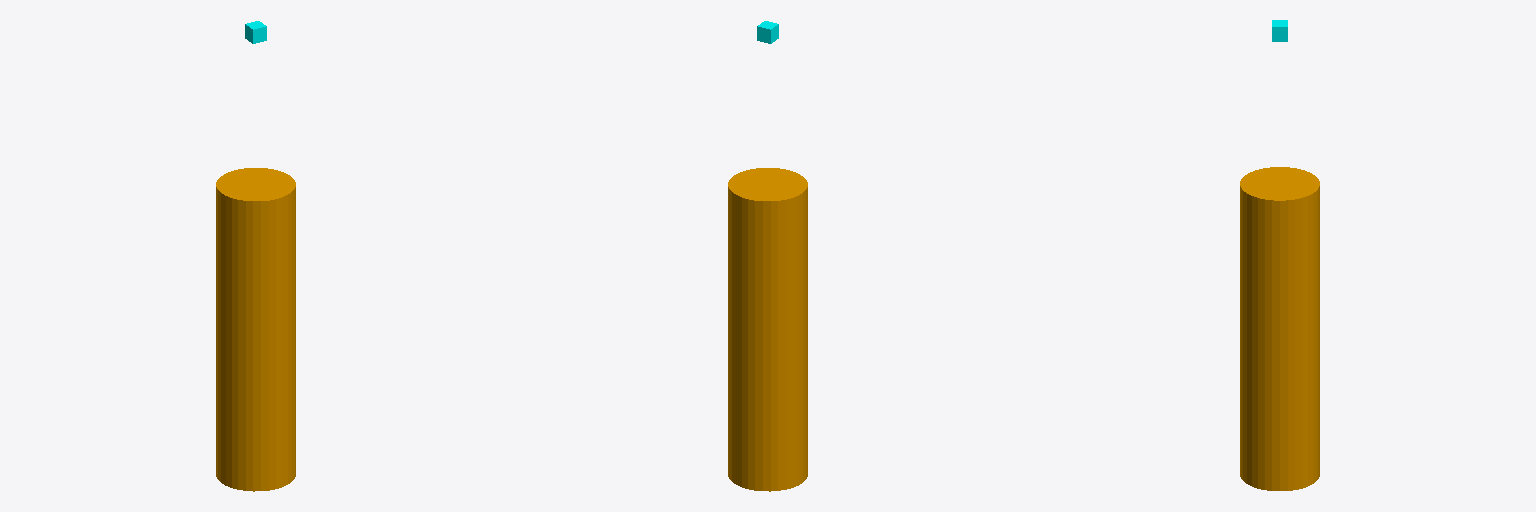
robot.urdf — beer_world:
<robot name="beer_world">
  
  <joint name="join1" type="fixed">  <!-- floating dann fällt er -->
    <origin xyz="0 0 0" rpy="0 0 0"/>
    <parent link="cube"/>
    <child link="beer_can"/>
  </joint>

  <link name="beer_can">
    <inertial>
      <origin xyz="4.0 2.0 0.0" /> 
      <mass value="10.0" />
      <inertia  ixx="1.0" ixy="0.0"  ixz="0.0"  iyy="1.0"  iyz="0.0"  izz="1.0" />
    </inertial>
    <visual>
      <origin xyz="4.0 2.0 0.0"/>
      <geometry>
       <cylinder radius="0.05" length="0.4"/>
      </geometry>
    </visual>
    <collision>
      <origin xyz="4.0 2.0 0.0"/>
      <geometry>
      <cylinder radius="0.05" length="0.4"/>
      </geometry>
    </collision>
  </link> 

  <link name="cube">
    <inertial>
      <origin xyz="4.0 2.0 0.401" /> 
      <mass value="0.1" />
      <inertia  ixx="1.0" ixy="0.0"  ixz="0.0"  iyy="1.0"  iyz="0.0"  izz="1.0" />
    </inertial>
    <visual>
      <origin xyz="4.0 2.0 0.41"/>
      <geometry>
        <box size="0.02 0.02 0.02" />
      </geometry>
      <material name="blue">
       <color rgba="0.0 1.0 1.0 1.0"/>
      </material>
    </visual>
    <collision>
      <origin xyz="4.0 2.0 0.41"/>
      <geometry>
      <box size="0.02 0.02 0.02" />
      </geometry>
    </collision>
  </link> 

</robot>

--- Facts derived from the render (not from the file) ---
3 views of the same robot in one strip: view 1: azimuth 30°, elevation 25°; view 2: azimuth 150°, elevation 25°; view 3: azimuth 270°, elevation 25° (orthographic).
Model beer_world with 2 links and 1 joints (1 fixed), rooted at cube, posed every joint at zero.
Visible links, largest first — view 1: beer_can; view 2: beer_can; view 3: beer_can.
Boxes of the visible links, x1=… form: beer_can: x1=216, y1=168, x2=295, y2=491; beer_can: x1=728, y1=168, x2=807, y2=491; beer_can: x1=1240, y1=167, x2=1319, y2=490.
Size in the robot's own frame: 0.1 by 0.1 by 0.62 metres.
Geometry: primitives only (box / cylinder / sphere), no mesh files.